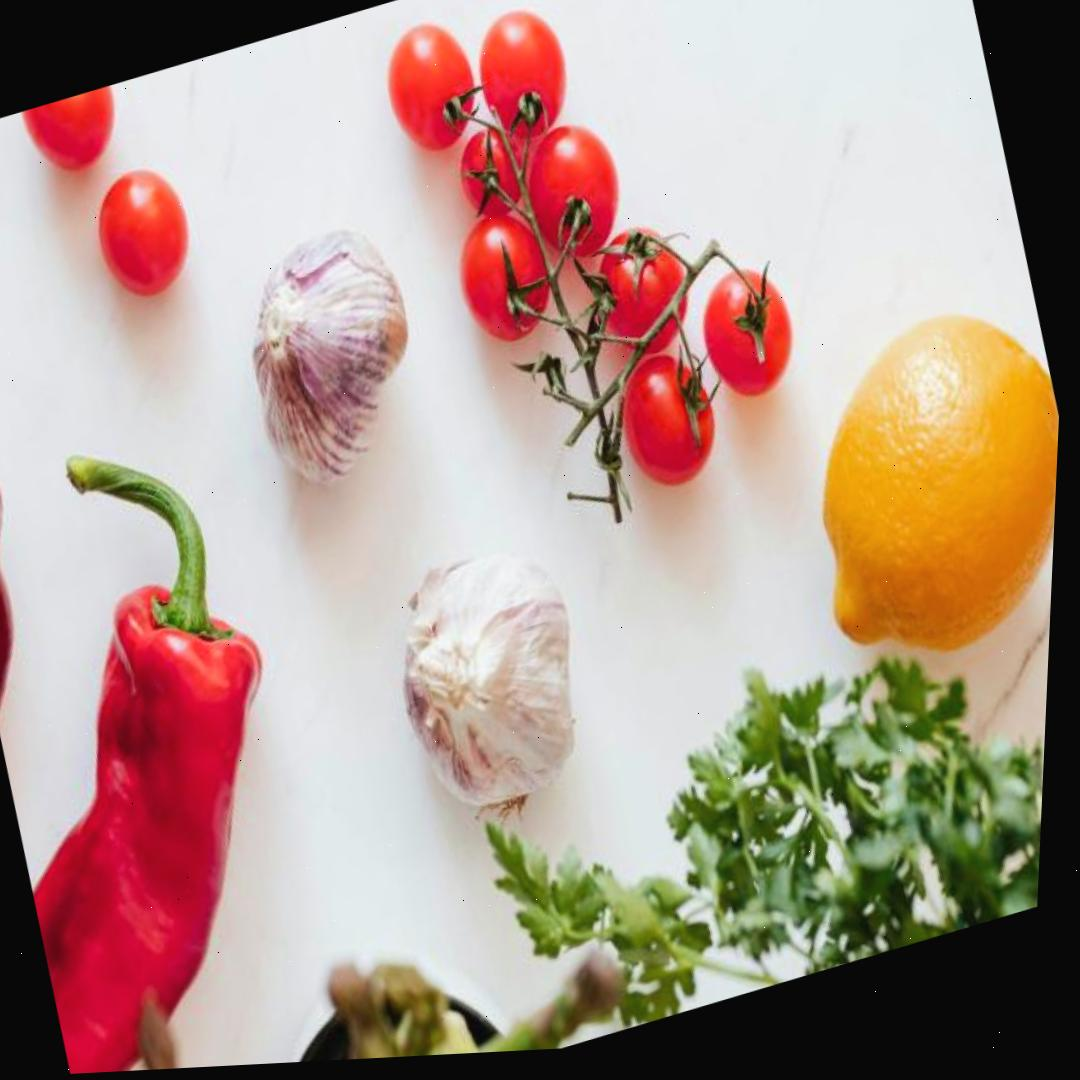matang: (601, 337, 730, 500), (511, 110, 637, 268), (583, 212, 705, 369), (688, 253, 810, 408), (443, 200, 564, 351), (83, 156, 203, 307), (371, 10, 490, 162), (463, 0, 582, 150), (448, 117, 534, 225)
